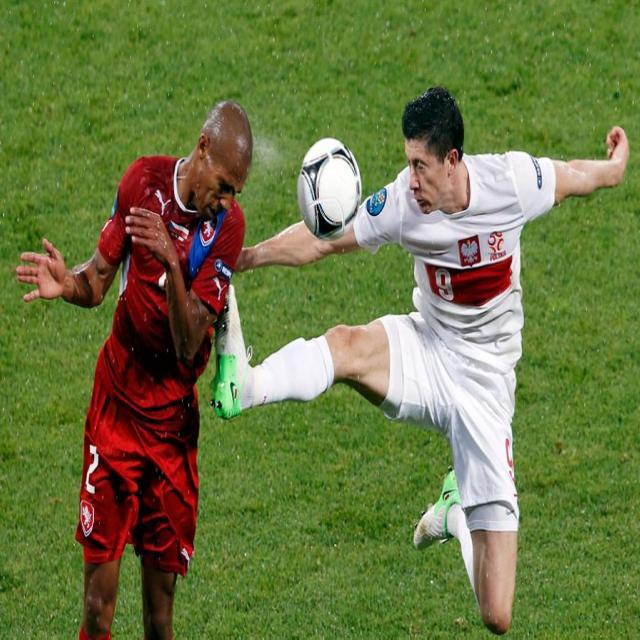Face: (400, 134, 452, 230), (196, 144, 249, 224)
